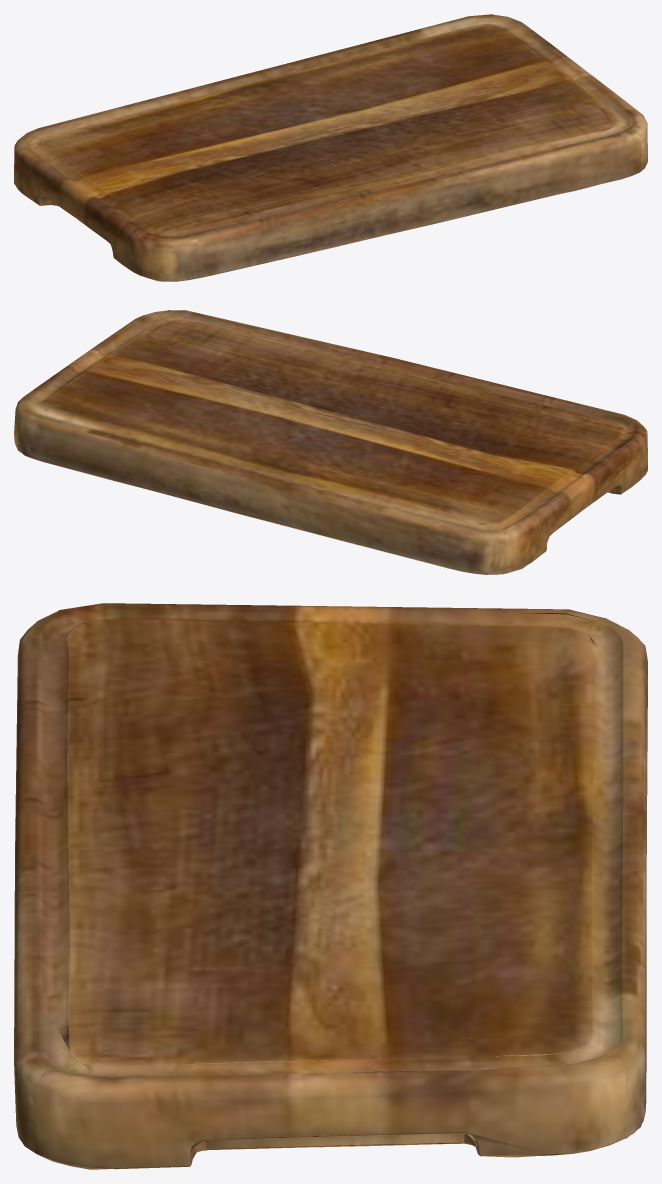
Rendered from cutting_board.glb.
3 renders of one model, top to bottom at view 1: azimuth 30°, elevation 25°; view 2: azimuth 150°, elevation 25°; view 3: azimuth 270°, elevation 25°, orthographic. The views are drawn at different scales.
Parts seen in each view (by area): view 1: wooden_cutting_board; view 2: wooden_cutting_board; view 3: wooden_cutting_board.
Part boxes in pixels (bbox=[...]): wooden_cutting_board: bbox=[14, 14, 647, 281]; wooden_cutting_board: bbox=[14, 310, 647, 574]; wooden_cutting_board: bbox=[14, 603, 647, 1169].
Bounding box in the file's own units: 0.4502 × 0.0411 × 0.2467.
Materials: 1 (1 with a texture image).
